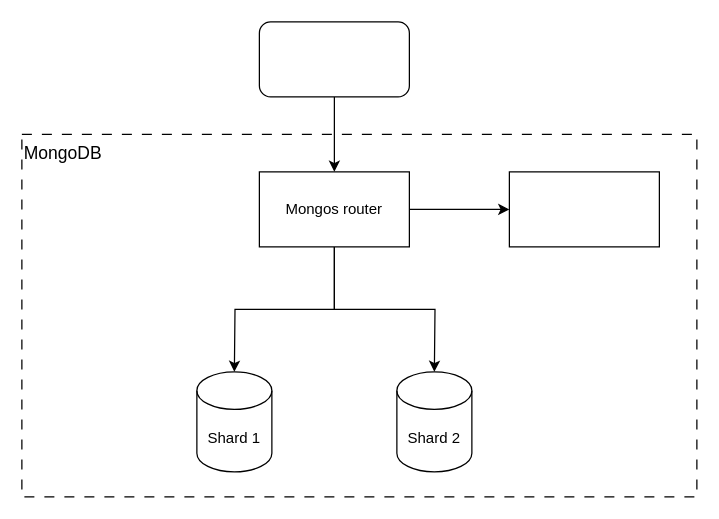
This 719x519 diagram has some shape labels left out. Each missing label, with the centre of its shape:
Configuration: the point at 583,209
pymongo-api: the point at 333,59
